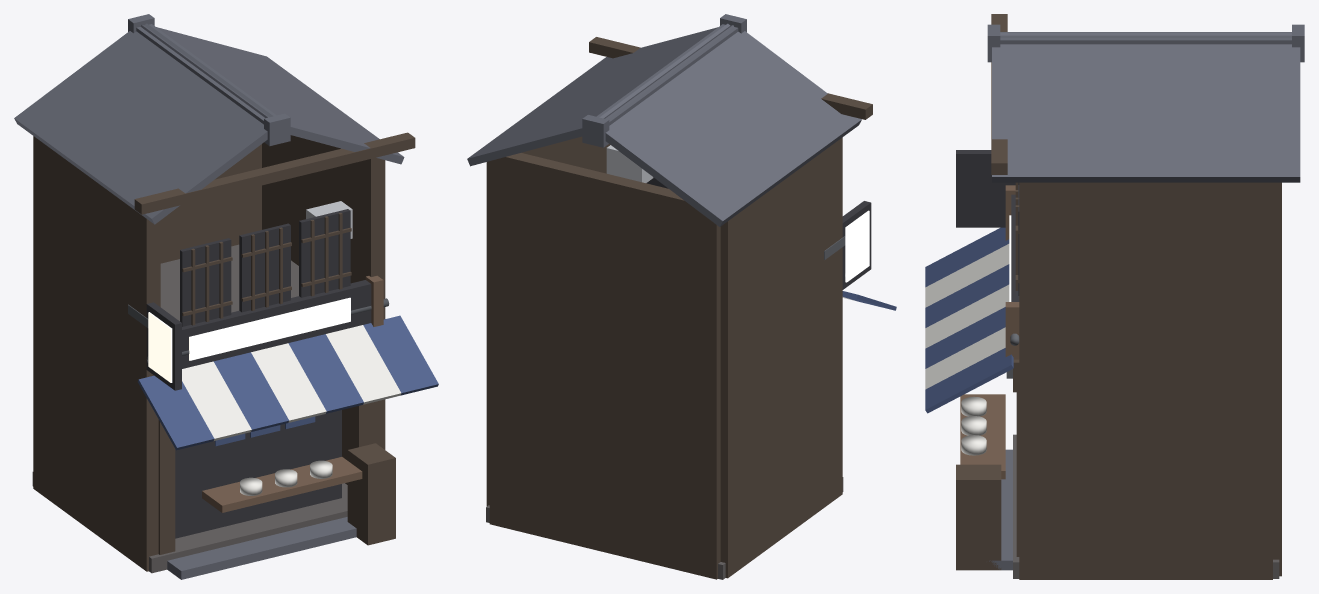
The model's file is prop_shop_sobaya.glb.
3 renders of one model, left to right at view 1: azimuth 30°, elevation 25°; view 2: azimuth 150°, elevation 25°; view 3: azimuth 270°, elevation 25°, orthographic. The views are drawn at different scales.
Visible parts, largest first — view 1: shop_sobaya; view 2: shop_sobaya; view 3: shop_sobaya.
Boxes of the visible parts, x1,y1,x2,y2 form: shop_sobaya: [14, 14, 438, 579]; shop_sobaya: [467, 14, 896, 579]; shop_sobaya: [925, 14, 1304, 579].
Size of the model in its own units: 3.9 by 5.9 by 4.19.
